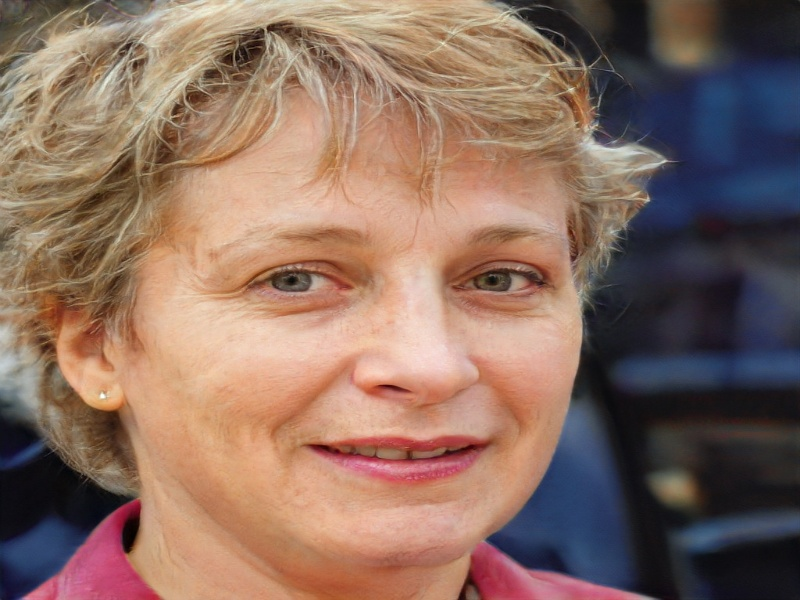face: (204, 211, 567, 503)
